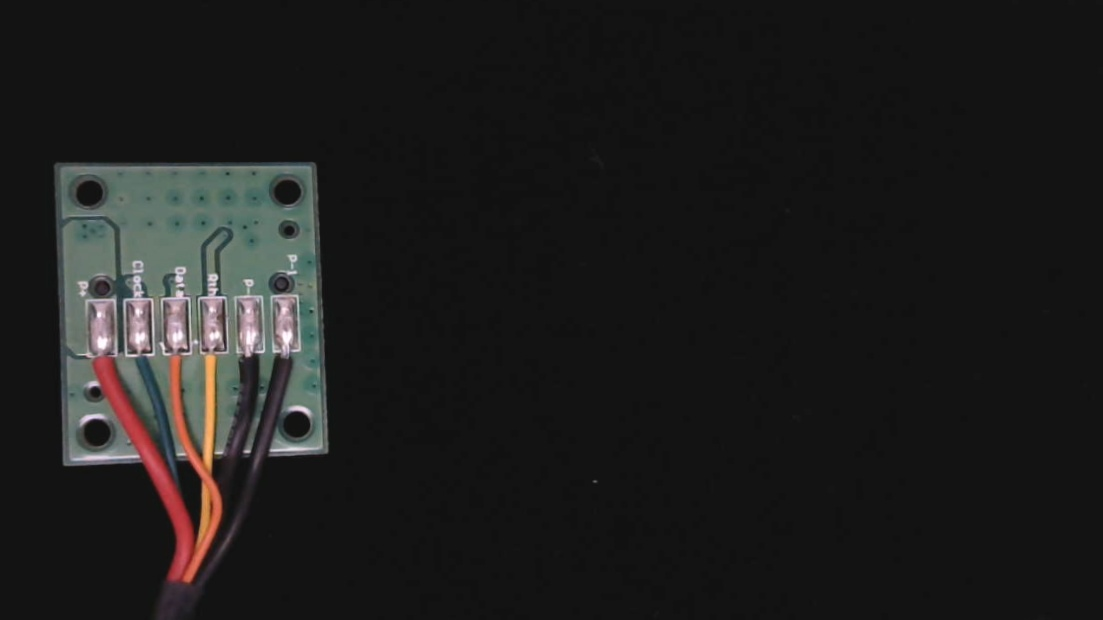Black: (231, 338, 258, 397)
Black1: (269, 338, 298, 396)
Green: (124, 340, 156, 398)
Orange: (161, 340, 190, 403)
Red: (87, 340, 118, 401)
Yellow: (194, 337, 224, 401)
